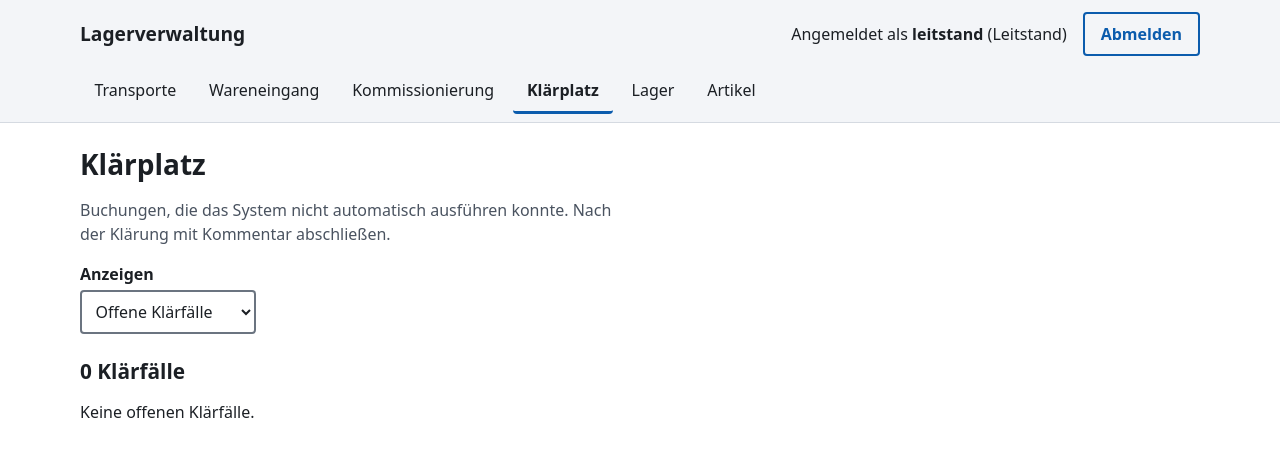
Test: nach Abmeldung des Leitstands landet ein Fahrer nicht auf einer Leitstand-Seite
Click the button "Abmelden": (1141, 34) [1083,12,1200,56]
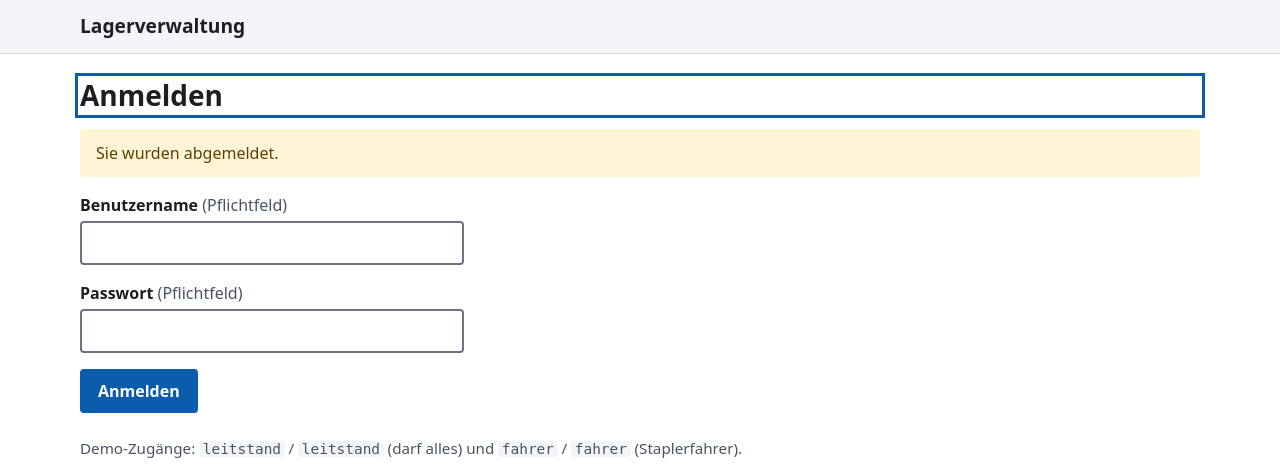
In the field labelled "Benutzername (Pflichtfeld)": (272, 243) [80,221,464,265], type "fahrer"
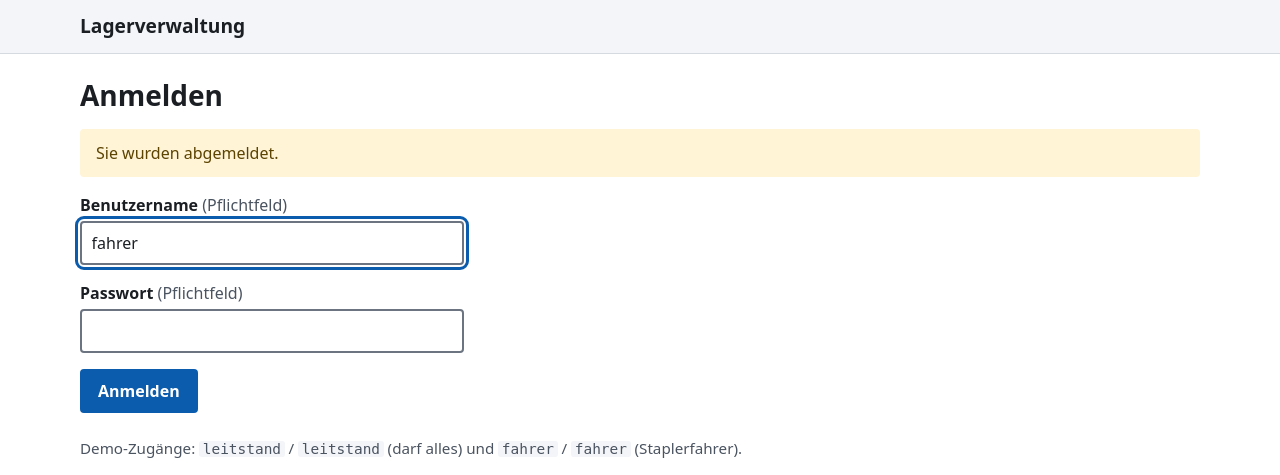
In the password field labelled "Passwort (Pflichtfeld)": (272, 331) [80,309,464,353], type "fahrer"
Then press Enter
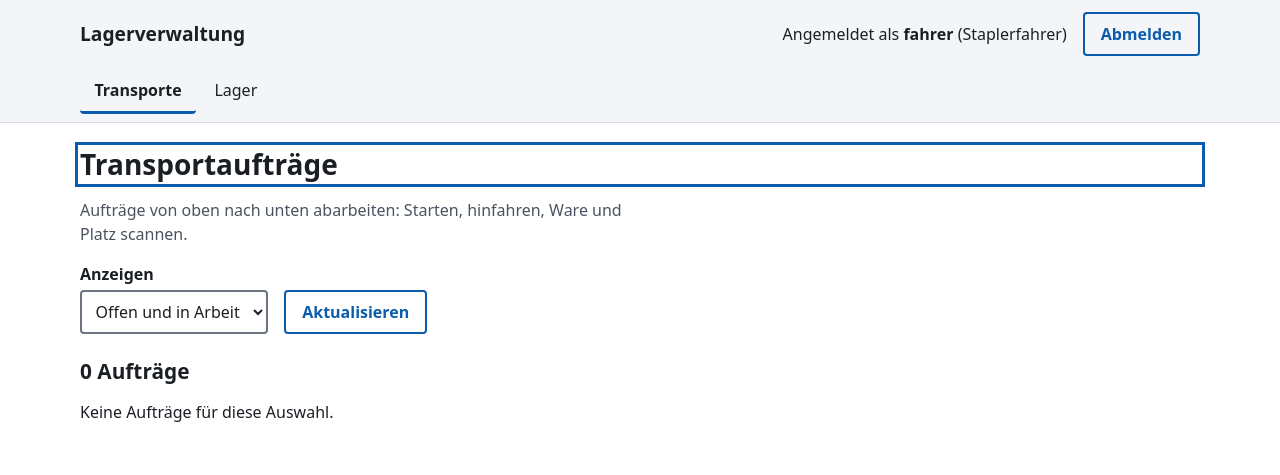
Result: the heading "Transportaufträge" is shown at [80,145,338,183]
